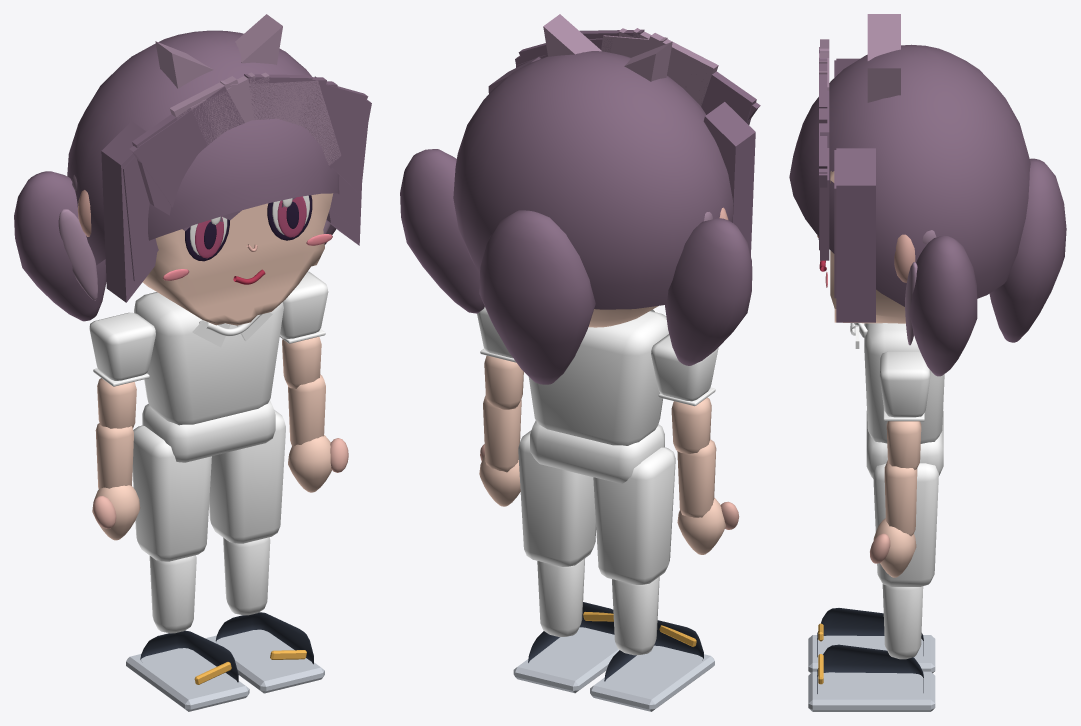
Rendered from chibi-stylized-v4.glb.
The picture shows the model from 3 angles, left to right: view 1: azimuth 30°, elevation 25°; view 2: azimuth 150°, elevation 25°; view 3: azimuth 270°, elevation 25°; orthographic projection.
Parts seen in each view (by area): view 1: hair_cap, head_mesh, torso_mesh, thigh_mesh_l, hair_style_twintail_tail_l, thigh_mesh_r, hair_style_ponytail_bang_1, hair_style_bob_side_l, waist_mesh, foot_mesh_l_sole, hair_style_ponytail_bang_2, foot_mesh_r_sole (+33 smaller); view 2: hair_cap, hair_style_ponytail_tail, torso_mesh, hair_style_twintail_tail_l, thigh_mesh_l, hair_style_twintail_tail_r, thigh_mesh_r, foot_mesh_l_sole, waist_mesh, foot_mesh_r_sole, hair_style_bob_side_l, shin_mesh_l (+17 smaller); view 3: hair_cap, hair_style_ponytail_tail, hair_style_twintail_tail_r, hair_style_bob_side_r, foot_mesh_r_sole, torso_mesh, thigh_mesh_r, jersey_sleeve_r, shin_mesh_r, foot_mesh_r, forearm_mesh_r, foot_mesh_l_sole (+11 smaller).
Boxes of the visible parts, x1,y1,x2,y2 form: hair_cap: (67, 30, 339, 265); head_mesh: (142, 193, 333, 325); torso_mesh: (134, 292, 283, 425); thigh_mesh_l: (132, 425, 211, 561); hair_style_twintail_tail_l: (14, 171, 106, 321); thigh_mesh_r: (209, 409, 285, 543); hair_style_ponytail_bang_1: (129, 86, 244, 220); hair_style_bob_side_l: (101, 121, 156, 302); waist_mesh: (142, 400, 275, 462); foot_mesh_l_sole: (126, 648, 249, 711); hair_style_ponytail_bang_2: (230, 80, 340, 200); foot_mesh_r_sole: (205, 629, 324, 693); hair_cap: (453, 51, 733, 309); hair_style_ponytail_tail: (479, 210, 595, 384); torso_mesh: (528, 311, 668, 445); hair_style_twintail_tail_l: (665, 218, 752, 365); thigh_mesh_l: (593, 447, 675, 584); hair_style_twintail_tail_r: (400, 149, 484, 313); thigh_mesh_r: (518, 430, 596, 566); foot_mesh_l_sole: (590, 645, 714, 711); waist_mesh: (530, 420, 664, 483); foot_mesh_r_sole: (513, 627, 619, 693); hair_style_bob_side_l: (703, 102, 755, 255); shin_mesh_l: (612, 576, 659, 655); hair_cap: (789, 44, 1030, 306); hair_style_ponytail_tail: (989, 158, 1066, 342); hair_style_twintail_tail_r: (909, 236, 977, 376); hair_style_bob_side_r: (836, 148, 875, 322); foot_mesh_r_sole: (808, 671, 935, 711); torso_mesh: (864, 323, 944, 443); thigh_mesh_r: (873, 463, 938, 586); jersey_sleeve_r: (879, 351, 930, 417); shin_mesh_r: (882, 584, 923, 659); foot_mesh_r: (817, 644, 923, 693); forearm_mesh_r: (884, 460, 917, 536); foot_mesh_l_sole: (808, 635, 935, 673).
Size of the model in its own units: 1.9 by 3.39 by 1.33.
